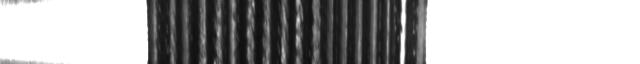Couter: (134, 0, 150, 64), (212, 0, 228, 64), (315, 0, 331, 64), (332, 0, 348, 64), (152, 0, 166, 64), (168, 0, 182, 64), (198, 0, 212, 64), (269, 0, 283, 64), (284, 0, 298, 64), (300, 0, 314, 64), (348, 0, 362, 64), (362, 0, 376, 64), (391, 0, 405, 64), (406, 0, 420, 64), (422, 0, 436, 64), (502, 0, 516, 64), (516, 0, 530, 64), (255, 0, 268, 64), (376, 0, 389, 64), (436, 0, 449, 64), (476, 0, 489, 64), (184, 0, 196, 64), (228, 0, 240, 64), (242, 0, 254, 64), (451, 0, 463, 64), (464, 0, 476, 64), (490, 0, 502, 64)
